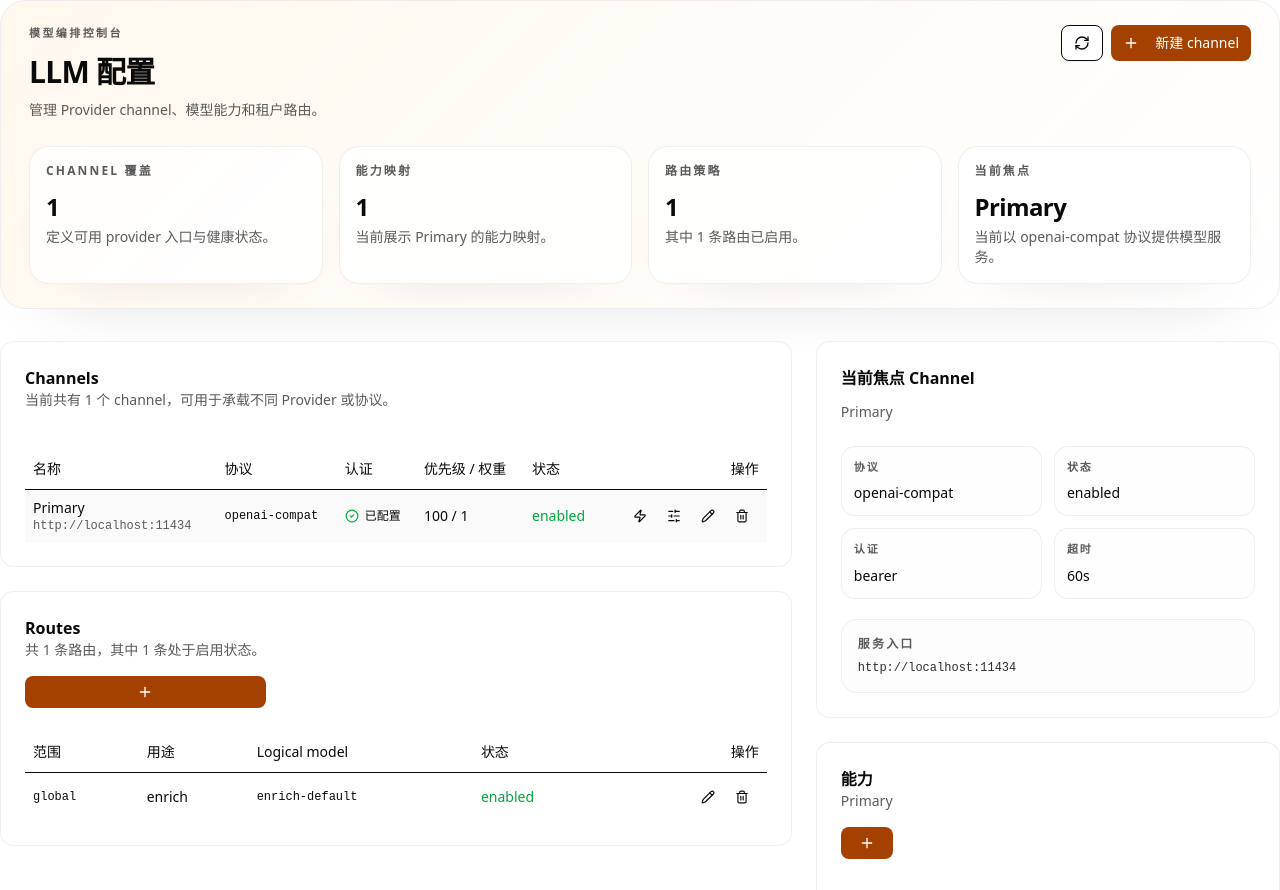
tests a channel with a discovered provider model
Click the button titled "测试". click: (640,516)
box: [623, 500, 657, 532]
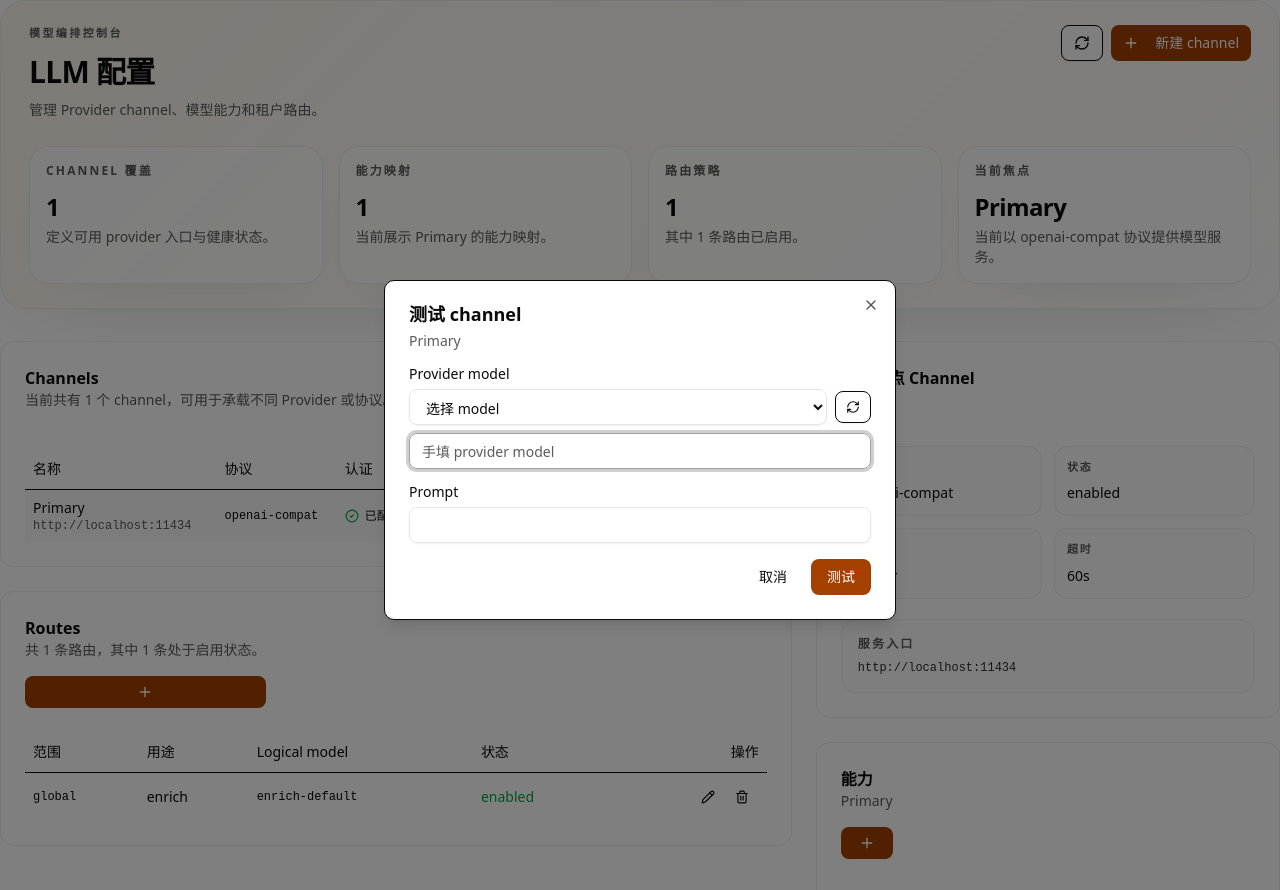
Click the button named "刷新 models". click: (853,407)
box: [835, 391, 871, 423]
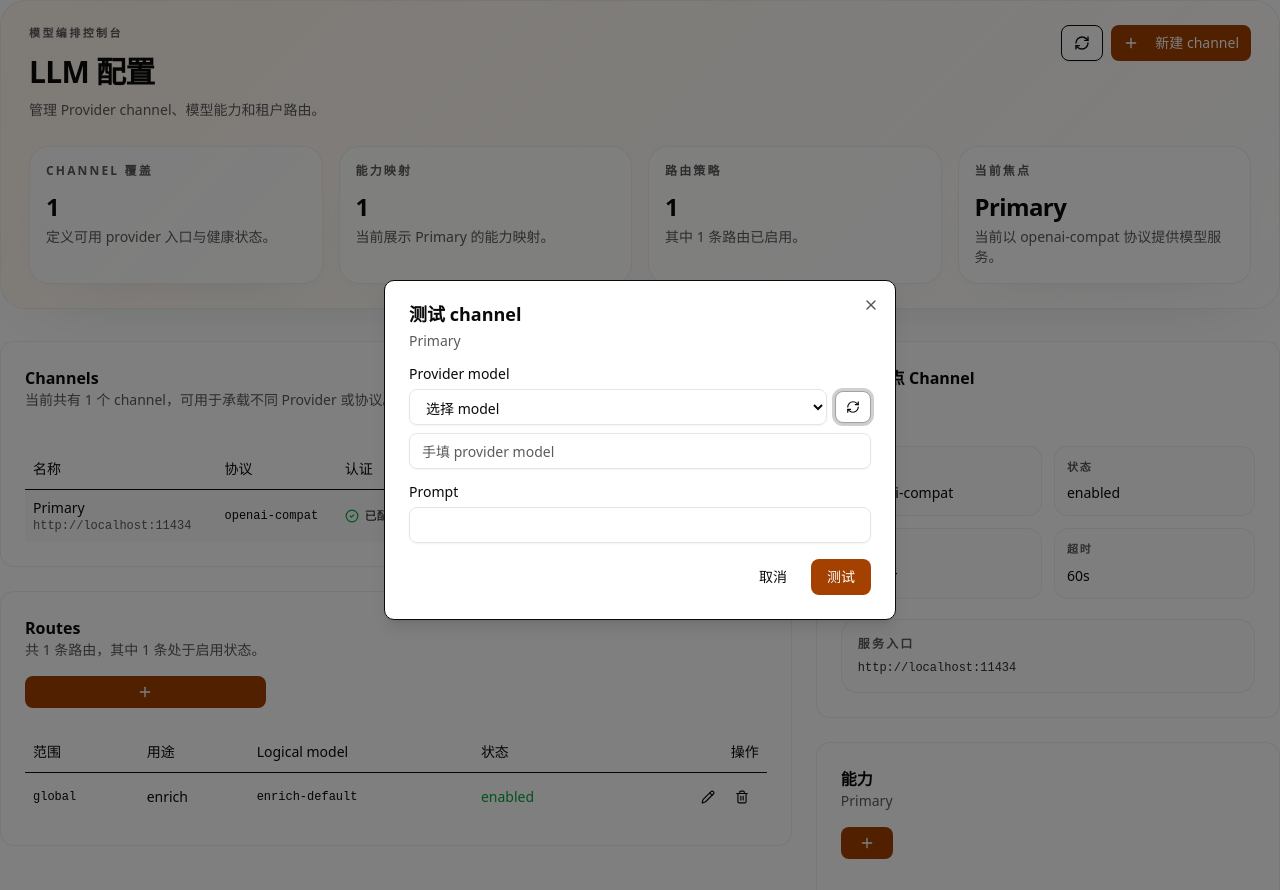
Select "gpt-4.1-mini (GPT 4.1 mini)" in the dropdown named "选择 model". click: (618,407)
box: [409, 389, 827, 425]
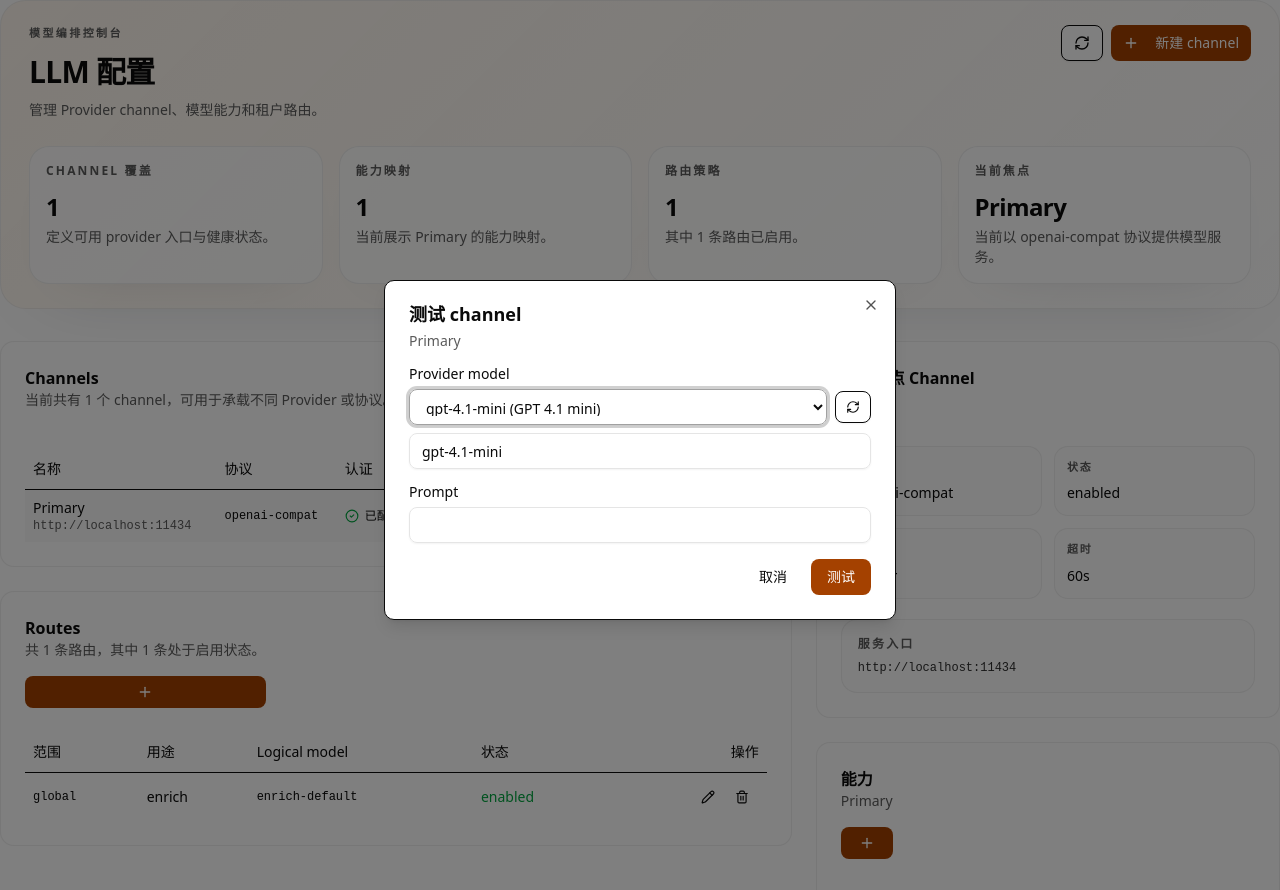
Type "ping attune" into the field labelled "Prompt". click: (640,525)
box: [409, 507, 871, 543]
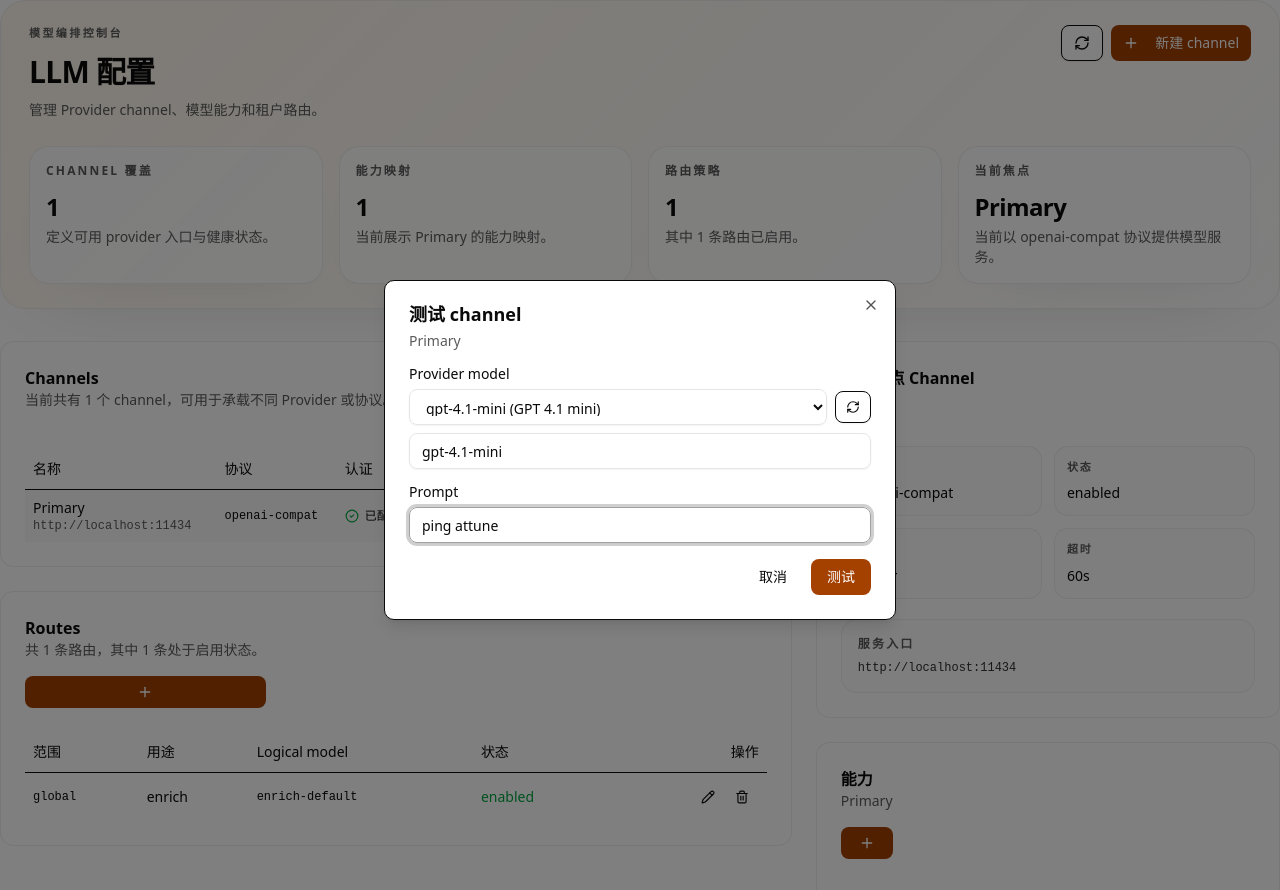
Click the button "测试". click: (841,577)
box: [811, 559, 871, 595]
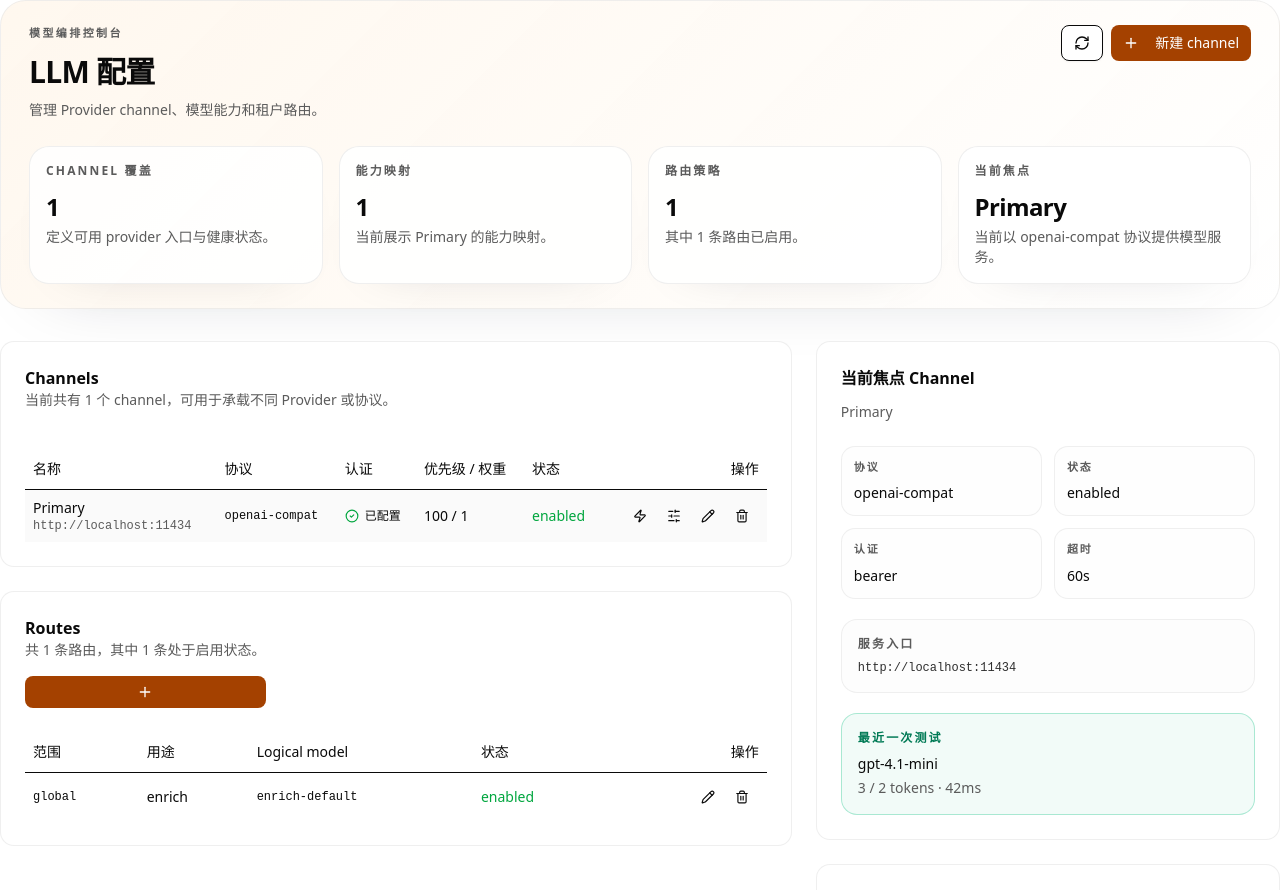
expect the text "gpt-4.1-mini" is shown: met, box [858, 754, 938, 772]
expect the text "3 / 2 tokens · 42ms" is shown: met, box [858, 778, 981, 796]
